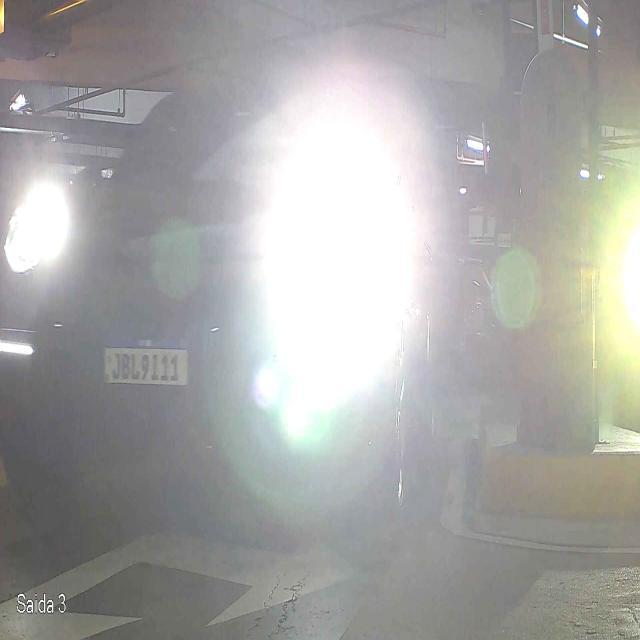mercosul_plate: (100, 332, 192, 388)
